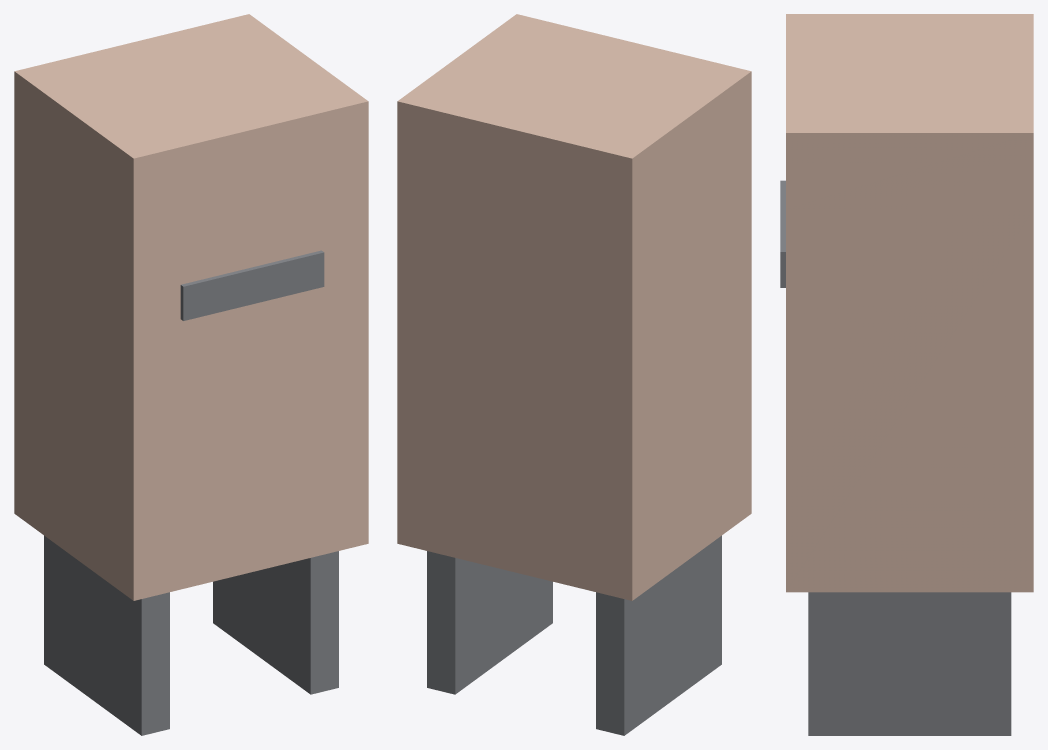
Rendered from mailbox.glb.
3 views of the same model, side by side, from view 1: azimuth 30°, elevation 25°; view 2: azimuth 150°, elevation 25°; view 3: azimuth 270°, elevation 25° (orthographic). The views are drawn at different scales.
Visible parts, largest first — view 1: mailbox; view 2: mailbox; view 3: mailbox.
Boxes of the visible parts, <box> form: mailbox: <box>14,14,368,735</box>; mailbox: <box>397,14,751,735</box>; mailbox: <box>780,14,1033,735</box>.
Size of the model in its own units: 0.5 by 1.2 by 0.45.
